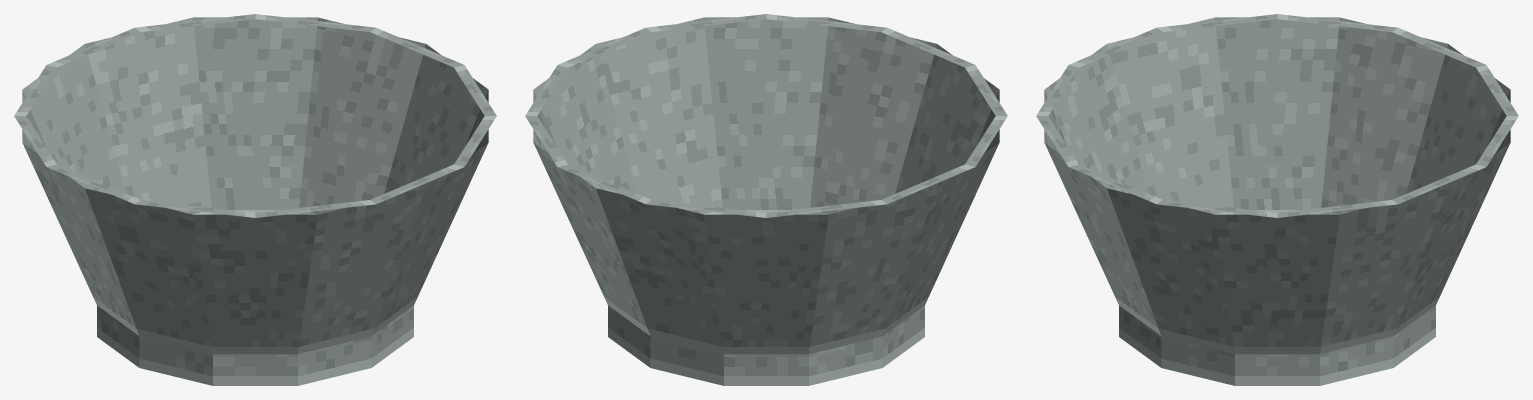
Rendered from bowl_pewter.glb.
The picture shows the model from 3 angles, left to right: view 1: azimuth 30°, elevation 25°; view 2: azimuth 150°, elevation 25°; view 3: azimuth 270°, elevation 25°; orthographic projection.
Visible parts, largest first — view 1: block_raised sides, block_thick foot, block_rolled rim 9, block_rolled rim 10, block_rolled rim 3, block_rolled rim 4, block_rolled rim 2, block_rolled rim 5, block_rolled rim 8, block_rolled rim 11, block_rolled rim 0, block_rolled rim 1 (+2 smaller); view 2: block_raised sides, block_thick foot, block_rolled rim 1, block_rolled rim 2, block_rolled rim 7, block_rolled rim 8, block_rolled rim 6, block_rolled rim 9, block_rolled rim 0, block_rolled rim 3, block_rolled rim 4, block_rolled rim 5 (+2 smaller); view 3: block_raised sides, block_thick foot, block_rolled rim 5, block_rolled rim 6, block_rolled rim 0, block_rolled rim 11, block_rolled rim 1, block_rolled rim 10, block_rolled rim 4, block_rolled rim 7, block_rolled rim 2, block_rolled rim 3 (+2 smaller).
Boxes of the visible parts, bbox=[...] form: block_raised sides: bbox=[22, 17, 488, 354]; block_thick foot: bbox=[97, 214, 413, 385]; block_rolled rim 9: bbox=[135, 14, 255, 31]; block_rolled rim 10: bbox=[255, 14, 375, 31]; block_rolled rim 3: bbox=[255, 200, 375, 217]; block_rolled rim 4: bbox=[135, 200, 255, 217]; block_rolled rim 2: bbox=[370, 164, 463, 204]; block_rolled rim 5: bbox=[47, 164, 140, 204]; block_rolled rim 8: bbox=[47, 27, 140, 67]; block_rolled rim 11: bbox=[370, 27, 463, 67]; block_rolled rim 0: bbox=[454, 65, 496, 115]; block_rolled rim 1: bbox=[454, 116, 496, 166]; block_raised sides: bbox=[533, 17, 999, 354]; block_thick foot: bbox=[608, 214, 924, 385]; block_rolled rim 1: bbox=[646, 14, 766, 31]; block_rolled rim 2: bbox=[766, 14, 886, 31]; block_rolled rim 7: bbox=[766, 200, 886, 217]; block_rolled rim 8: bbox=[646, 200, 766, 217]; block_rolled rim 6: bbox=[881, 164, 974, 204]; block_rolled rim 9: bbox=[558, 164, 651, 204]; block_rolled rim 0: bbox=[558, 27, 651, 67]; block_rolled rim 3: bbox=[881, 27, 974, 67]; block_rolled rim 4: bbox=[965, 65, 1007, 115]; block_rolled rim 5: bbox=[965, 116, 1007, 166]; block_raised sides: bbox=[1044, 17, 1510, 354]; block_thick foot: bbox=[1119, 214, 1435, 385]; block_rolled rim 5: bbox=[1157, 14, 1277, 31]; block_rolled rim 6: bbox=[1277, 14, 1397, 31]; block_rolled rim 0: bbox=[1157, 200, 1277, 217]; block_rolled rim 11: bbox=[1277, 200, 1397, 217]; block_rolled rim 1: bbox=[1069, 164, 1162, 204]; block_rolled rim 10: bbox=[1392, 164, 1485, 204]; block_rolled rim 4: bbox=[1069, 27, 1162, 67]; block_rolled rim 7: bbox=[1392, 27, 1485, 67]; block_rolled rim 2: bbox=[1036, 116, 1078, 166]; block_rolled rim 3: bbox=[1036, 65, 1078, 115].
Bounding box in the file's own units: 0.11 × 0.051 × 0.11.
2 materials, 2 textured.
